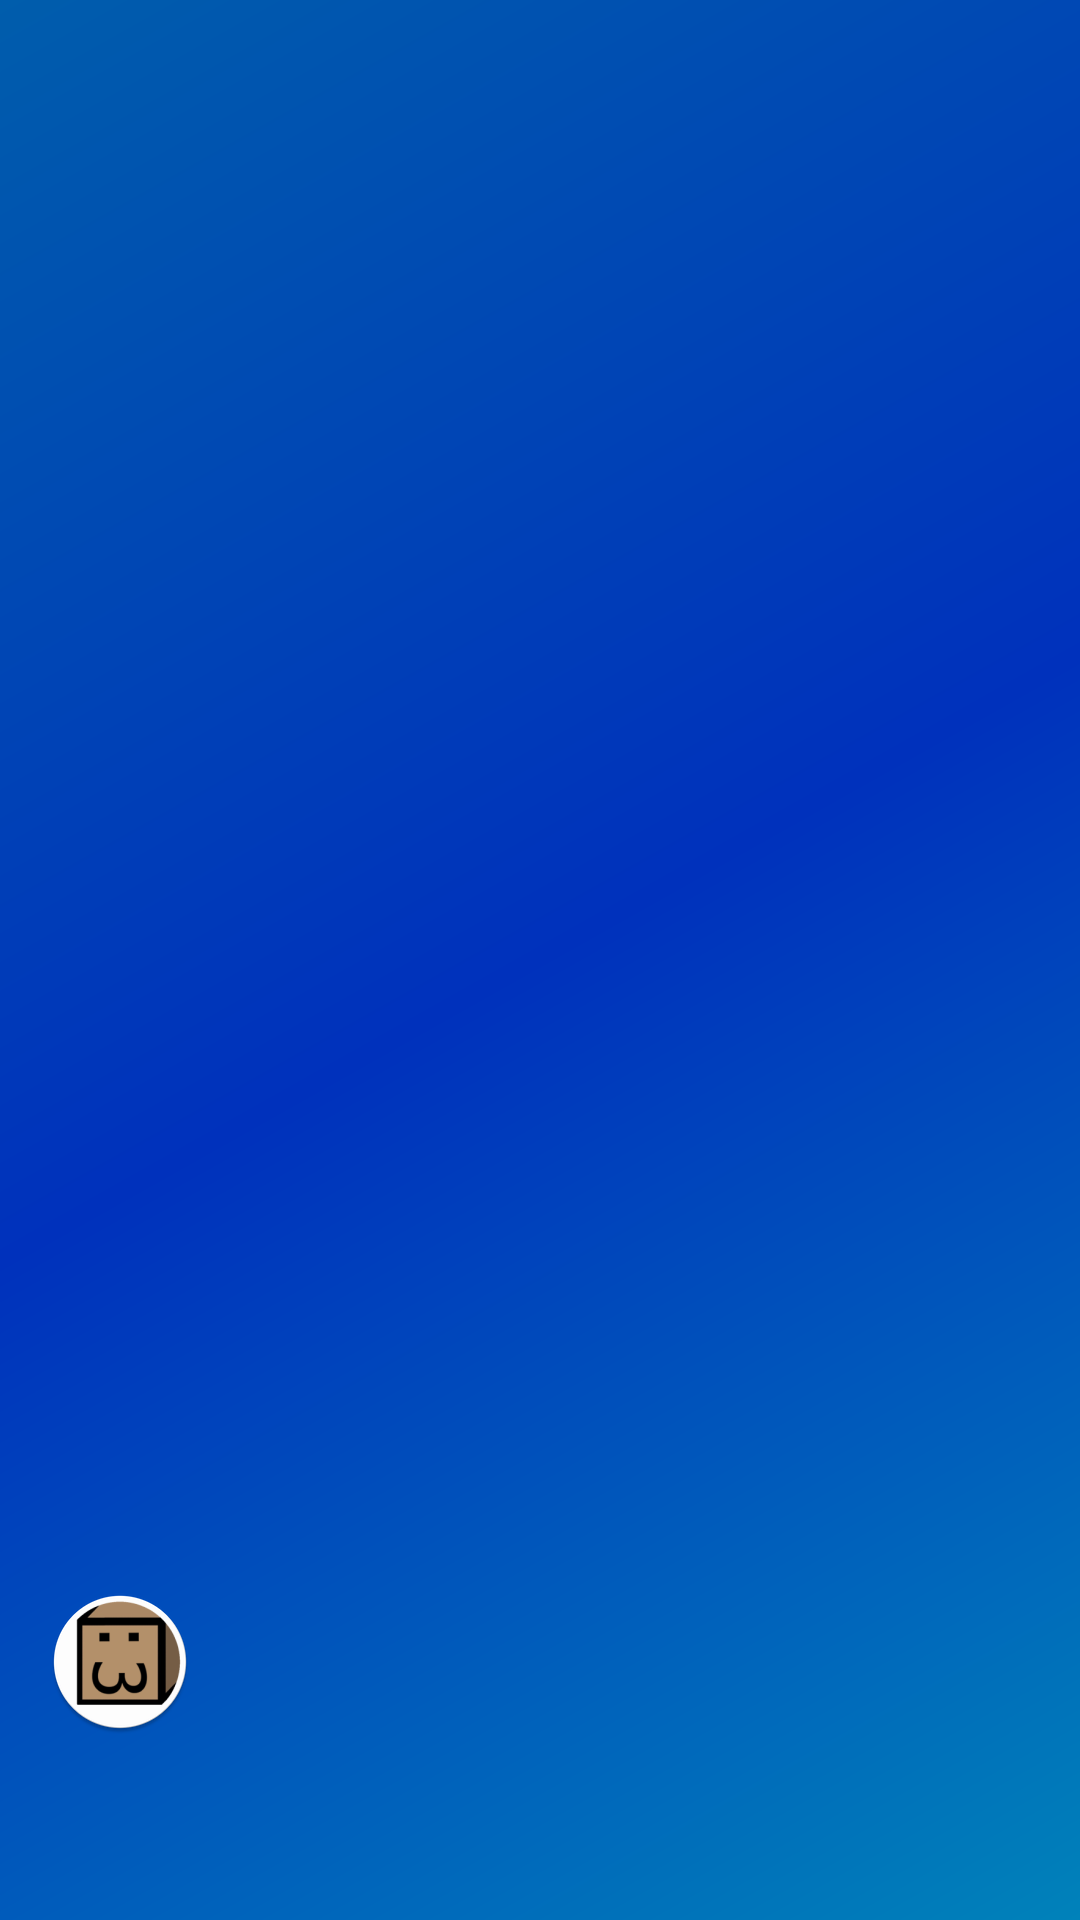

Icon click points for this 1080*1920 phone screenshot, format (x=x, y=y):
round: (x=120, y=1663)
